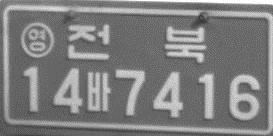1: (18, 64, 49, 113), (192, 72, 223, 120)
4: (152, 70, 183, 117), (53, 67, 82, 113)
6: (228, 74, 260, 121)
7: (114, 67, 144, 116)
바: (85, 71, 111, 112)
영: (19, 21, 55, 58)
전북_D: (65, 22, 206, 64)
